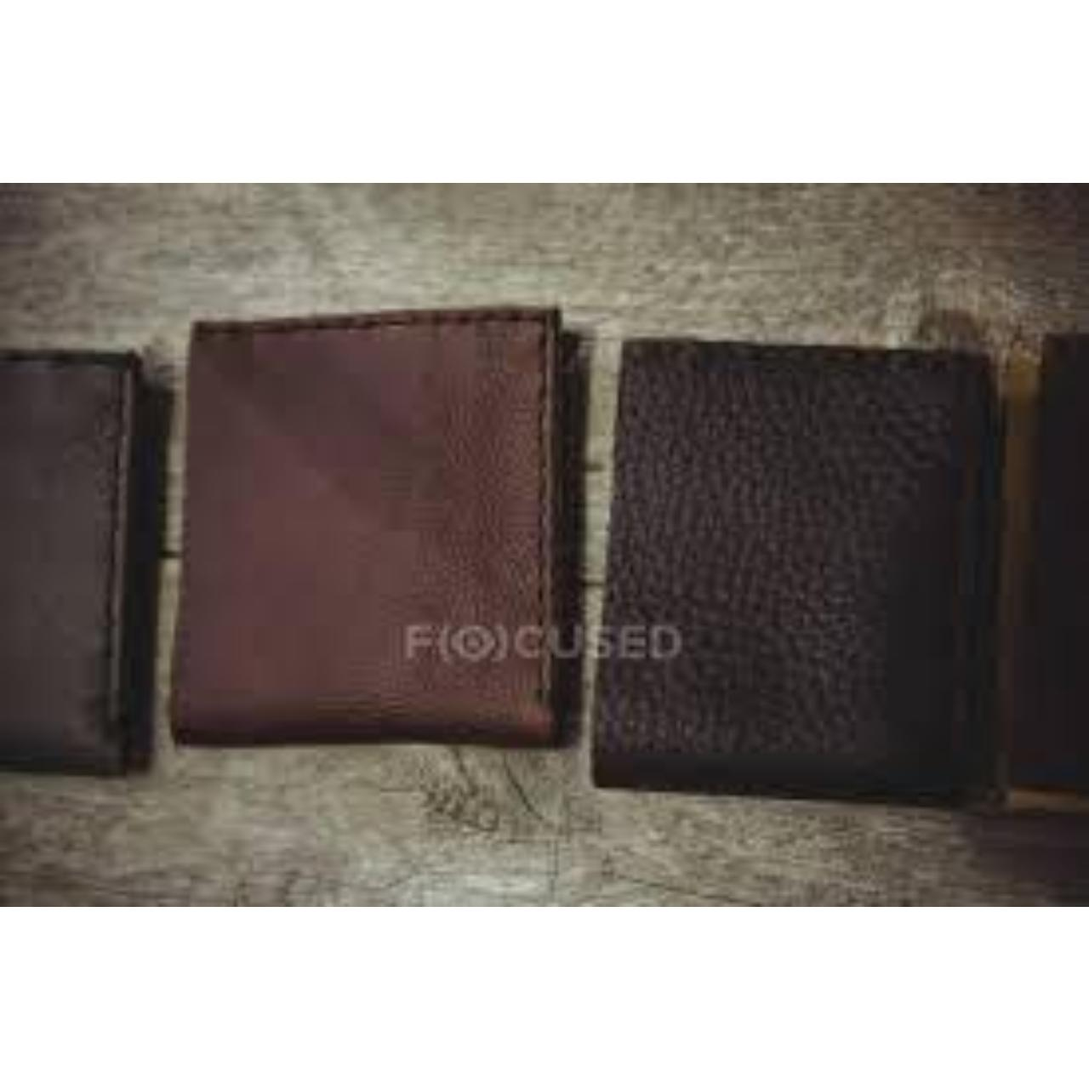wallet: (608, 309, 1000, 800), (172, 291, 568, 718)
